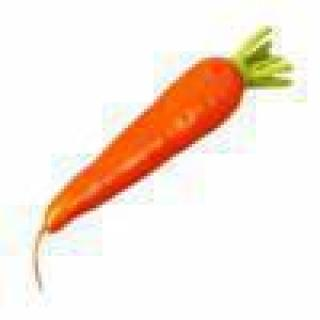Wortel: (14, 24, 296, 270)
